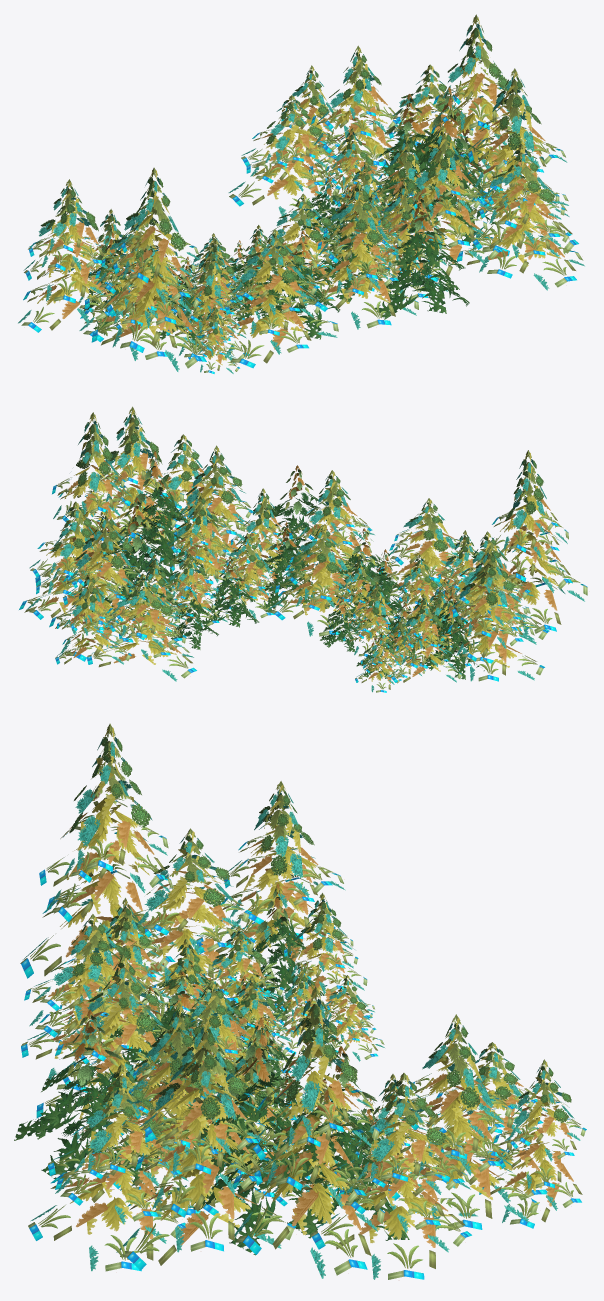
File: area_01_9.fbx
3 renders of one model, top to bottom at view 1: azimuth 30°, elevation 25°; view 2: azimuth 150°, elevation 25°; view 3: azimuth 270°, elevation 25°, orthographic. The views are drawn at different scales.
Visible parts, largest first — view 1: area_01_9; view 2: area_01_9; view 3: area_01_9.
Part boxes in pixels (x1,y1,x2,y2): area_01_9: (18, 14, 584, 373); area_01_9: (19, 406, 587, 692); area_01_9: (14, 723, 586, 1279).
Size of the model in its own units: 89.94 by 33.8 by 62.36.
